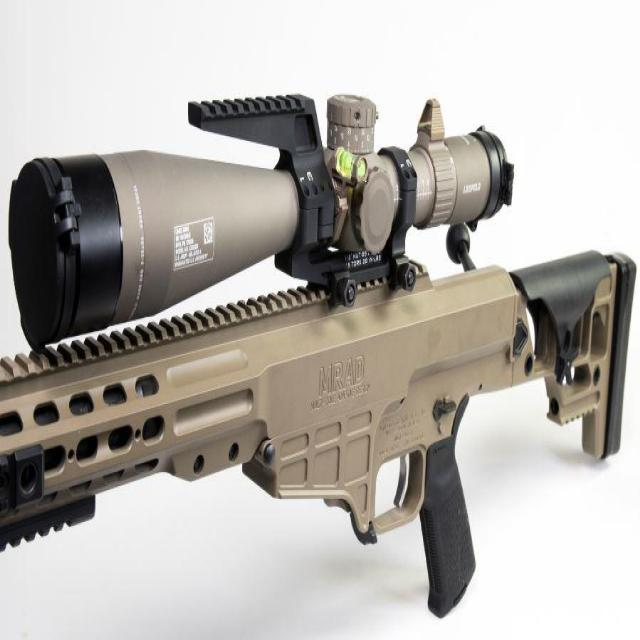Rifle: (0, 95, 637, 619)
